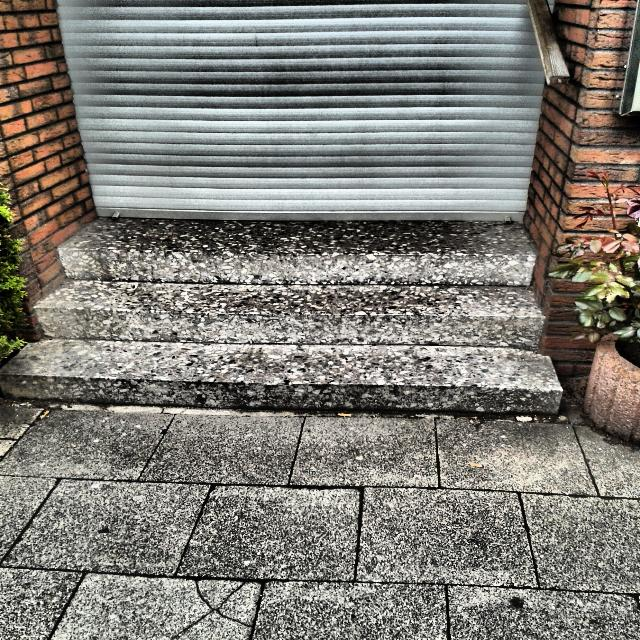escada: (2, 210, 560, 415)
